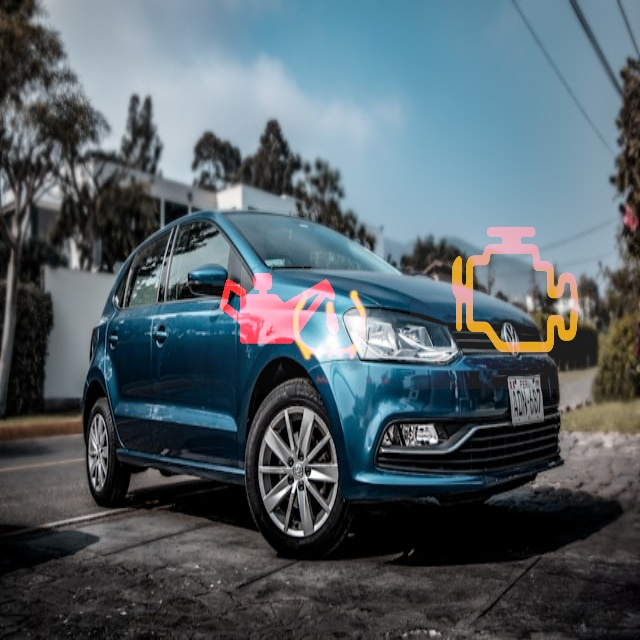symbol: (410, 180, 619, 389), (189, 210, 372, 393), (266, 262, 394, 390)
